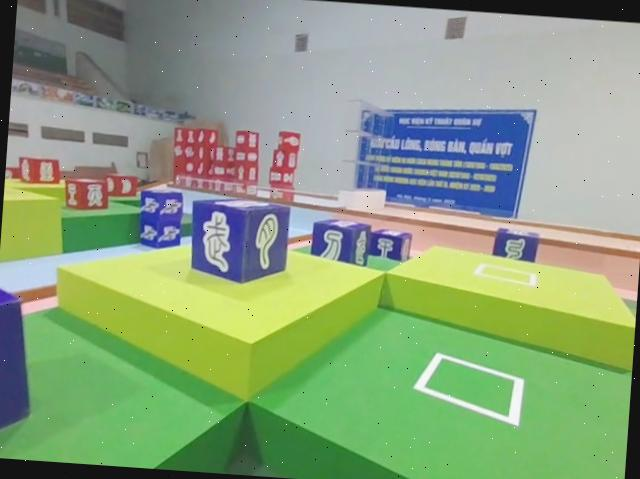R2 Fake Blue: (183, 196, 290, 290), (0, 271, 37, 458), (309, 214, 372, 267), (488, 224, 539, 262), (363, 225, 410, 261)
